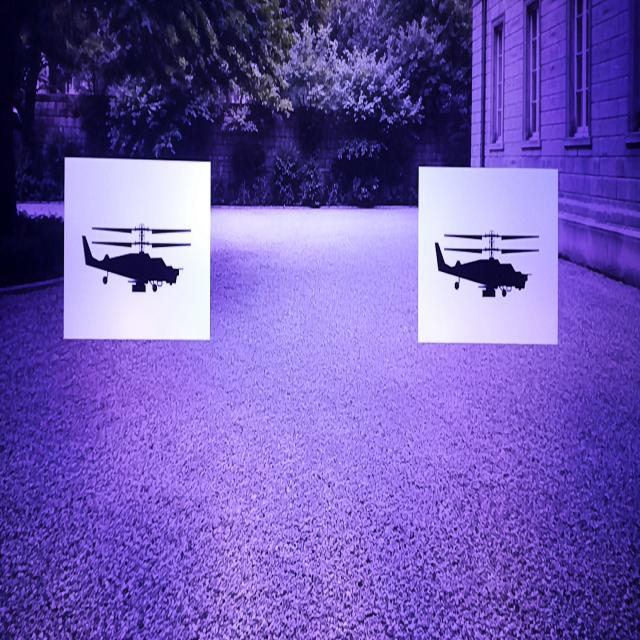Ka-52 Enemy: (83, 224, 190, 292), (436, 231, 538, 296)
